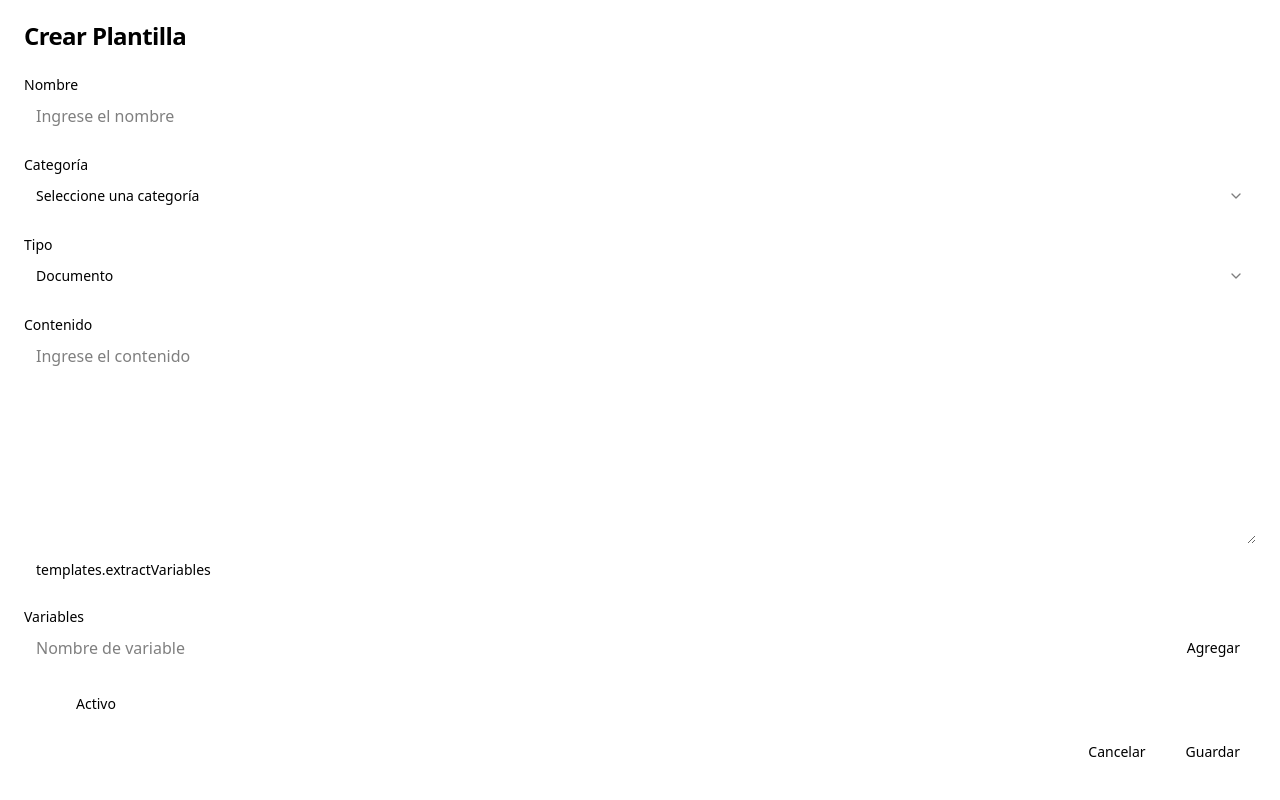
Test: Templates Module › TemplateForm › adds variables when add button is clicked
In the field with placeholder "Nombre de variable": (593, 648) [24,628,1163,668], type "test_variable"
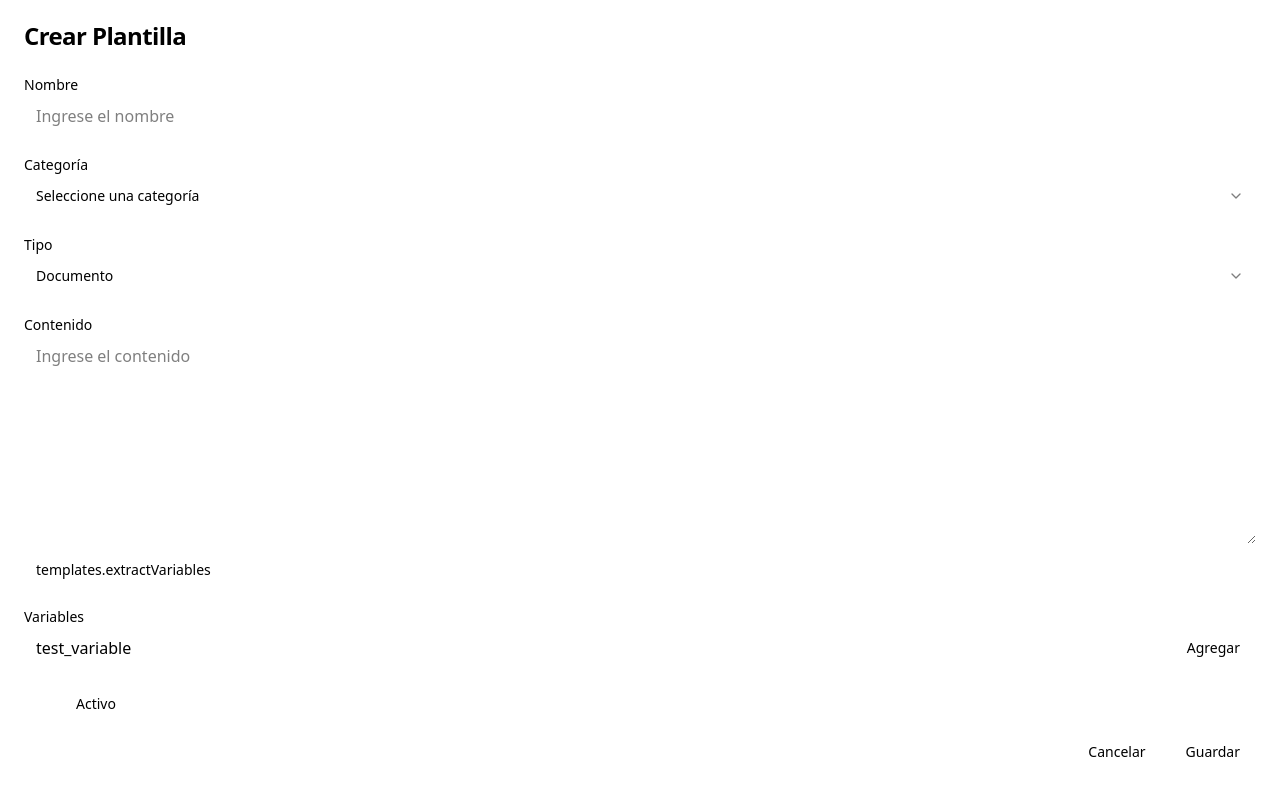
Click the button "Agregar": (1213, 648) [1171,628,1256,668]
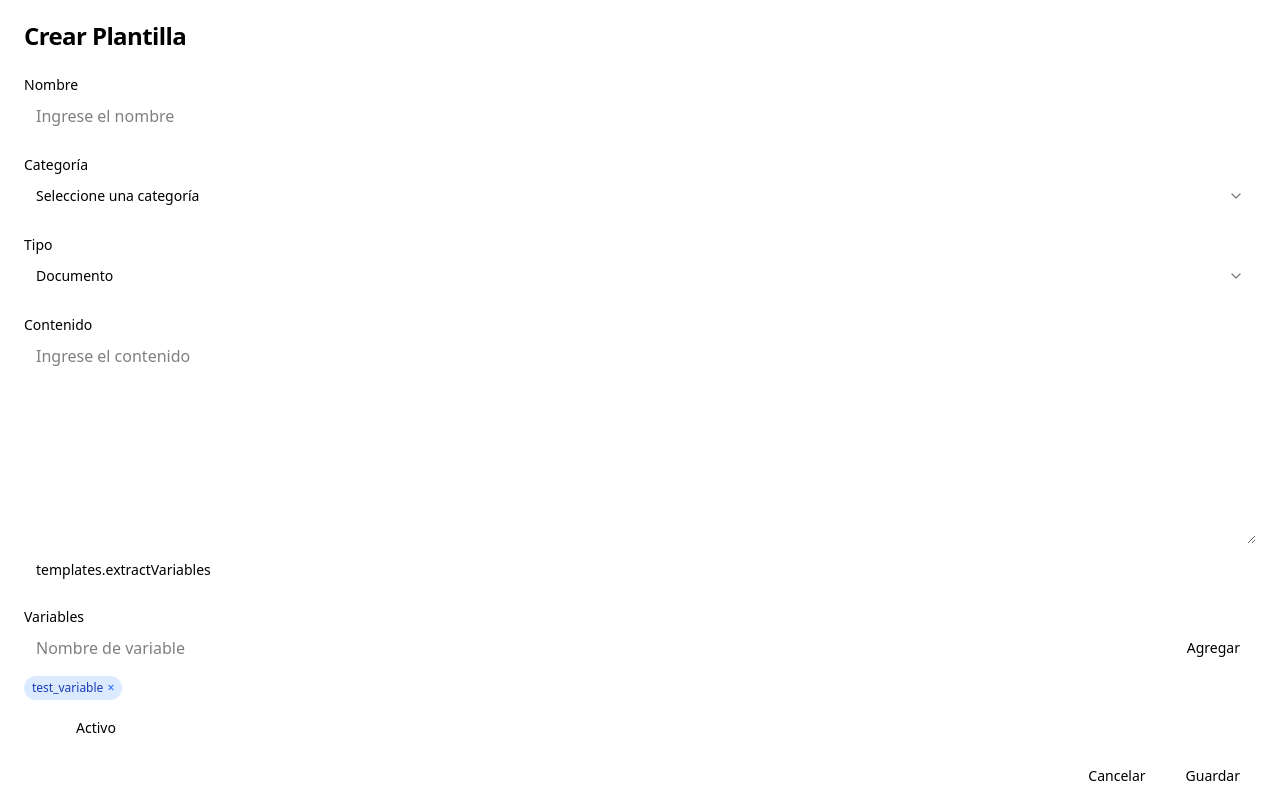
Expected: the text "test_variable" is shown, [32,679,103,696]
